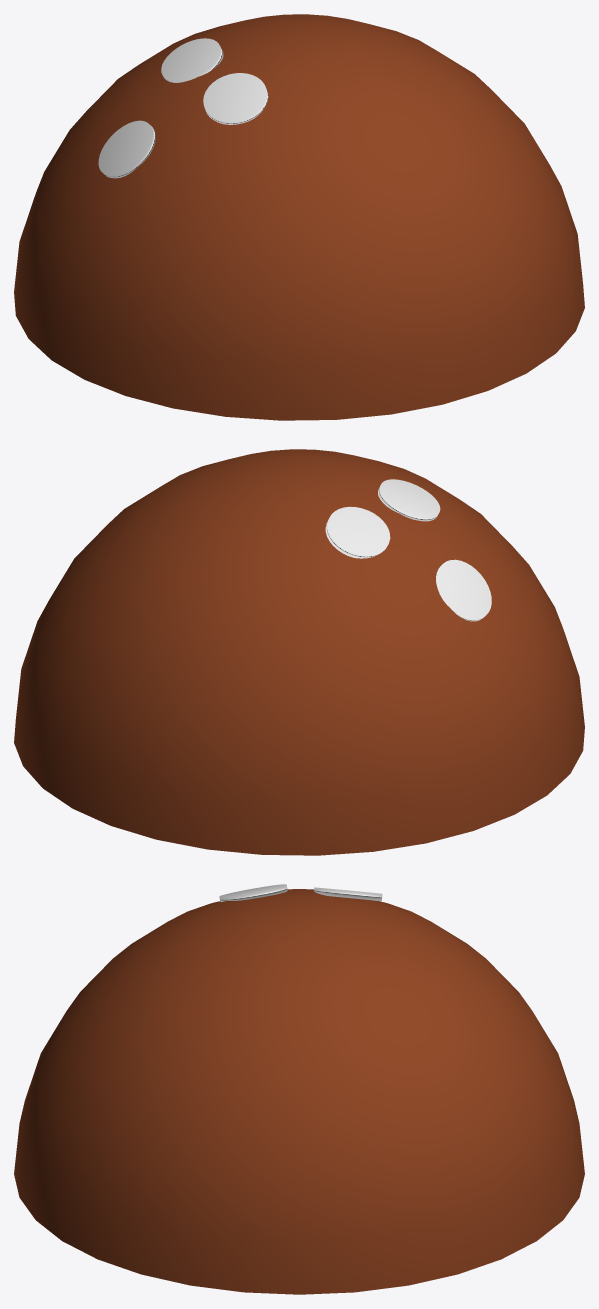
The model's file is CoconutShell.fbx.
3 renders of one model, top to bottom at view 1: azimuth 30°, elevation 25°; view 2: azimuth 150°, elevation 25°; view 3: azimuth 270°, elevation 25°, orthographic.
Visible parts, largest first — view 1: Sphere, Cylinder.001, Cylinder.002, Cylinder; view 2: Sphere, Cylinder, Cylinder.002, Cylinder.001; view 3: Sphere, Cylinder.001, Cylinder.
Part boxes in pixels (box(x1,y1,x2,y2)): Sphere: box(14, 14, 584, 420); Cylinder.001: box(203, 73, 268, 124); Cylinder.002: box(98, 120, 155, 178); Cylinder: box(161, 38, 223, 82); Sphere: box(14, 449, 584, 855); Cylinder: box(325, 506, 390, 558); Cylinder.002: box(436, 559, 491, 621); Cylinder.001: box(378, 479, 440, 521); Sphere: box(14, 889, 584, 1294); Cylinder.001: box(219, 884, 287, 901); Cylinder: box(314, 887, 382, 901).
Bounding box in the file's own units: 200 × 101 × 200.
